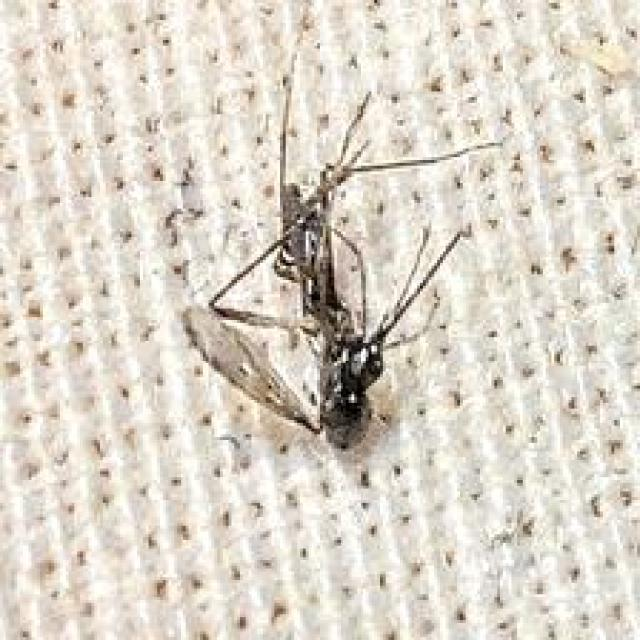Aedes albopictus: (174, 76, 506, 453)
